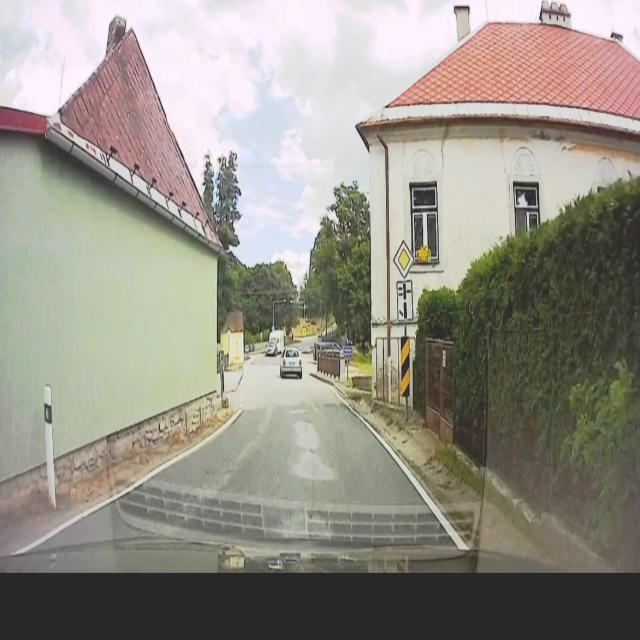Priority road: (390, 236, 416, 281)
